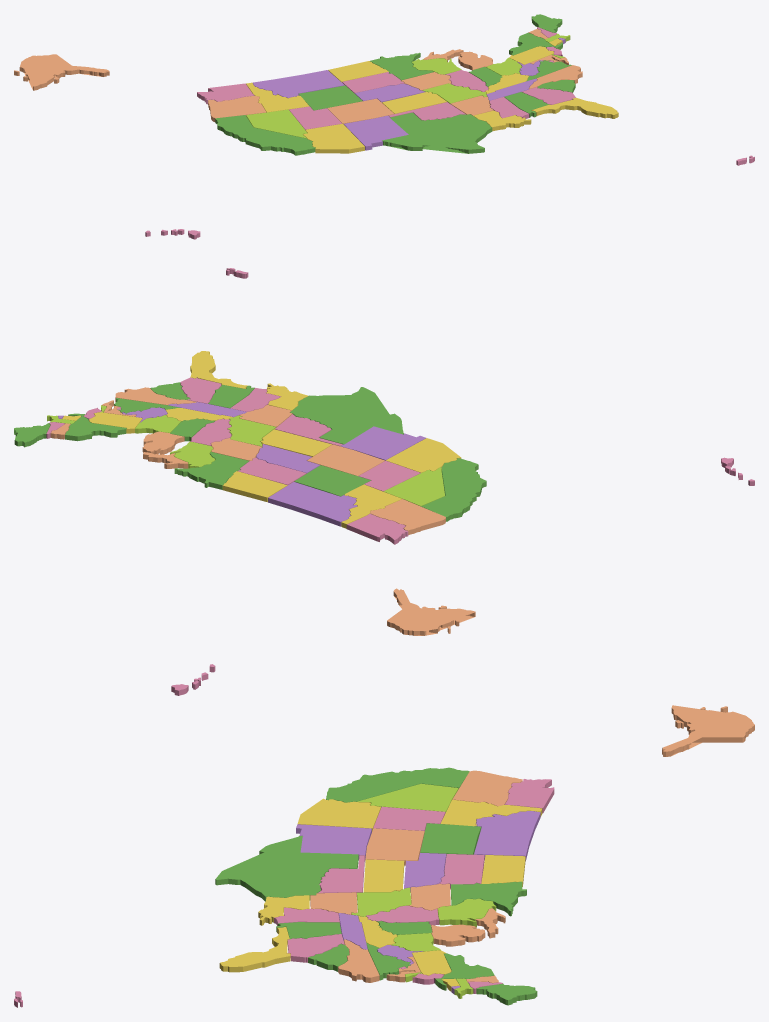
The model's file is USA Map.fbx.
3 views of the same model, one above another, from view 1: azimuth 30°, elevation 25°; view 2: azimuth 150°, elevation 25°; view 3: azimuth 270°, elevation 25° (orthographic). The views are drawn at different scales.
Parts seen in each view (by area): view 1: Texas, California, Alaska, Montana, Arizona, New Mexico, Nevada, Colorado, Oregon, Wyoming, Florida, Minnesota (+25 smaller); view 2: Texas, California, Montana, Alaska, New Mexico, Arizona, Oregon, Nevada, Colorado, Minnesota, Wyoming, Washington (+22 smaller); view 3: Texas, Alaska, California, Montana, New Mexico, Arizona, Nevada, Colorado, Wyoming, Oregon, Minnesota, Idaho (+28 smaller).
Boxes of the visible parts, left/top/right/bottom form: Texas: left=382, top=112, right=492, bottom=153; California: left=215, top=115, right=315, bottom=155; Alaska: left=14, top=54, right=109, bottom=90; Montana: left=253, top=70, right=344, bottom=98; Arizona: left=303, top=123, right=364, bottom=153; New Mexico: left=343, top=115, right=408, bottom=150; Nevada: left=246, top=109, right=307, bottom=138; Colorado: left=327, top=98, right=394, bottom=123; Oregon: left=208, top=95, right=266, bottom=121; Wyoming: left=298, top=85, right=362, bottom=110; Florida: left=531, top=97, right=618, bottom=118; Minnesota: left=370, top=52, right=433, bottom=80; Texas: left=290, top=387, right=403, bottom=444; California: left=421, top=458, right=486, bottom=521; Montana: left=268, top=482, right=357, bottom=526; Alaska: left=387, top=588, right=475, bottom=635; New Mexico: left=340, top=426, right=425, bottom=460; Arizona: left=386, top=438, right=461, bottom=472; Oregon: left=370, top=499, right=445, bottom=534; Nevada: left=383, top=467, right=444, bottom=506; Colorado: left=307, top=444, right=384, bottom=475; Minnesota: left=174, top=452, right=248, bottom=489; Wyoming: left=294, top=465, right=370, bottom=496; Washington: left=346, top=513, right=408, bottom=544; Texas: left=215, top=836, right=358, bottom=901; Alaska: left=662, top=705, right=754, bottom=756; California: left=326, top=767, right=469, bottom=802; Montana: left=474, top=811, right=540, bottom=860; New Mexico: left=296, top=824, right=371, bottom=859; Arizona: left=297, top=798, right=380, bottom=831; Nevada: left=357, top=783, right=458, bottom=812; Colorado: left=365, top=828, right=424, bottom=865; Wyoming: left=420, top=823, right=481, bottom=855; Oregon: left=452, top=770, right=522, bottom=806; Minnesota: left=451, top=881, right=526, bottom=916; Idaho: left=440, top=799, right=542, bottom=826.
Bounding box in the file's own units: 1355 × 10.01 × 1254.
